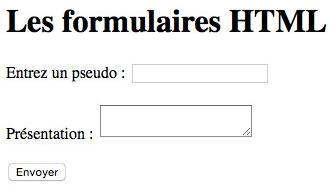button: (7, 161, 68, 183)
field: (98, 103, 256, 139), (130, 63, 270, 84)
field_with_label: (8, 101, 260, 142), (7, 61, 273, 86)
